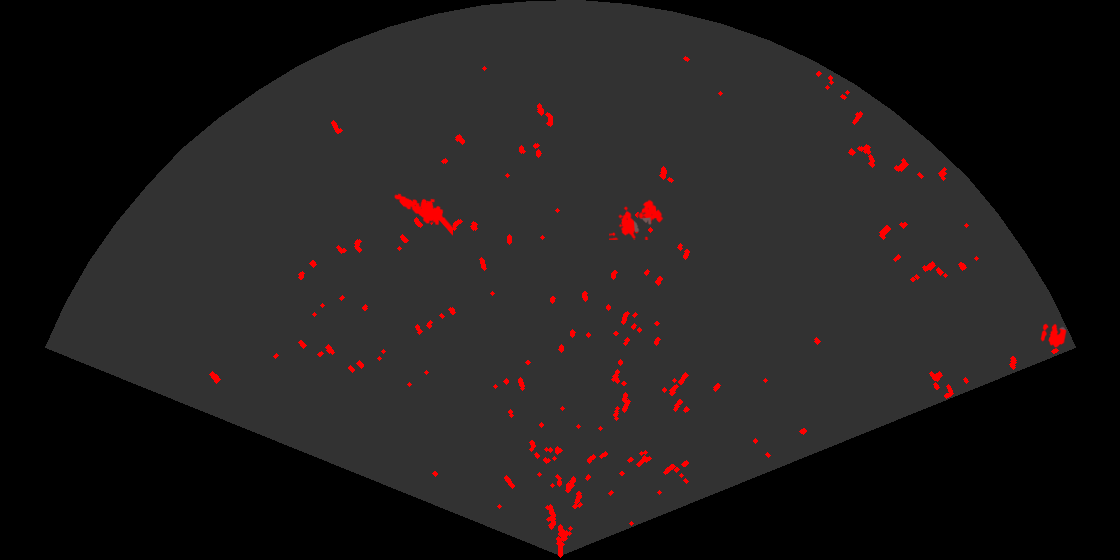ball: (1039, 322, 1068, 349)
cage: (609, 198, 665, 240)
frogman: (393, 192, 453, 237)
